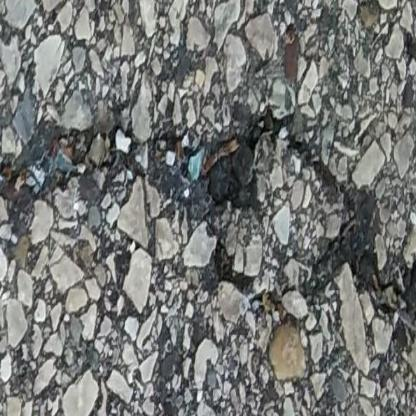Cracks: (0, 106, 416, 353)
